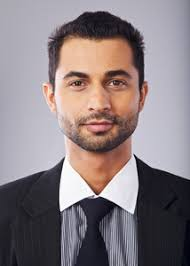middle_eastern_male: (47, 30, 141, 152)
